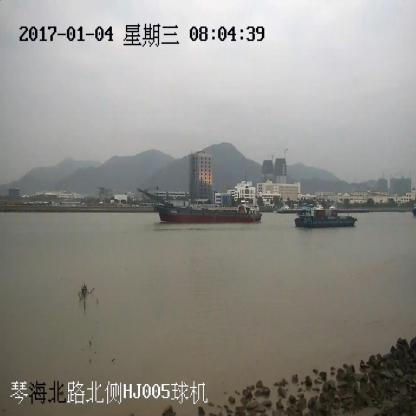Bulk Carrier: (138, 188, 262, 223)
